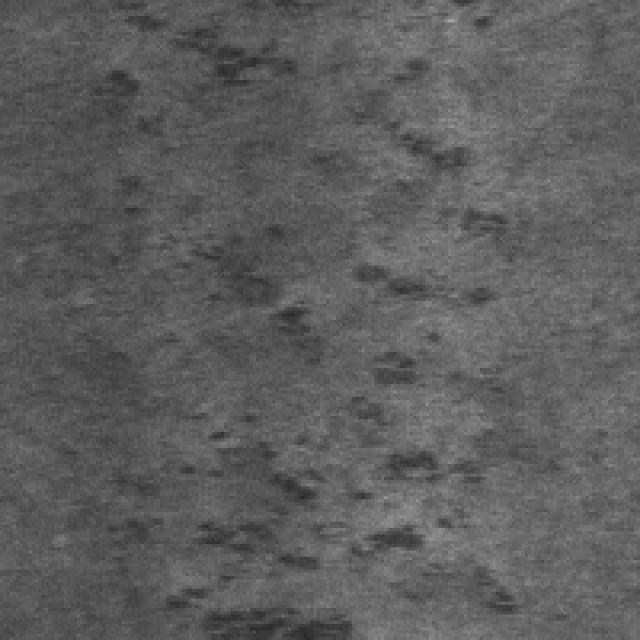rolled-in_scale: (163, 346, 531, 630), (99, 3, 307, 336), (346, 0, 518, 304)
